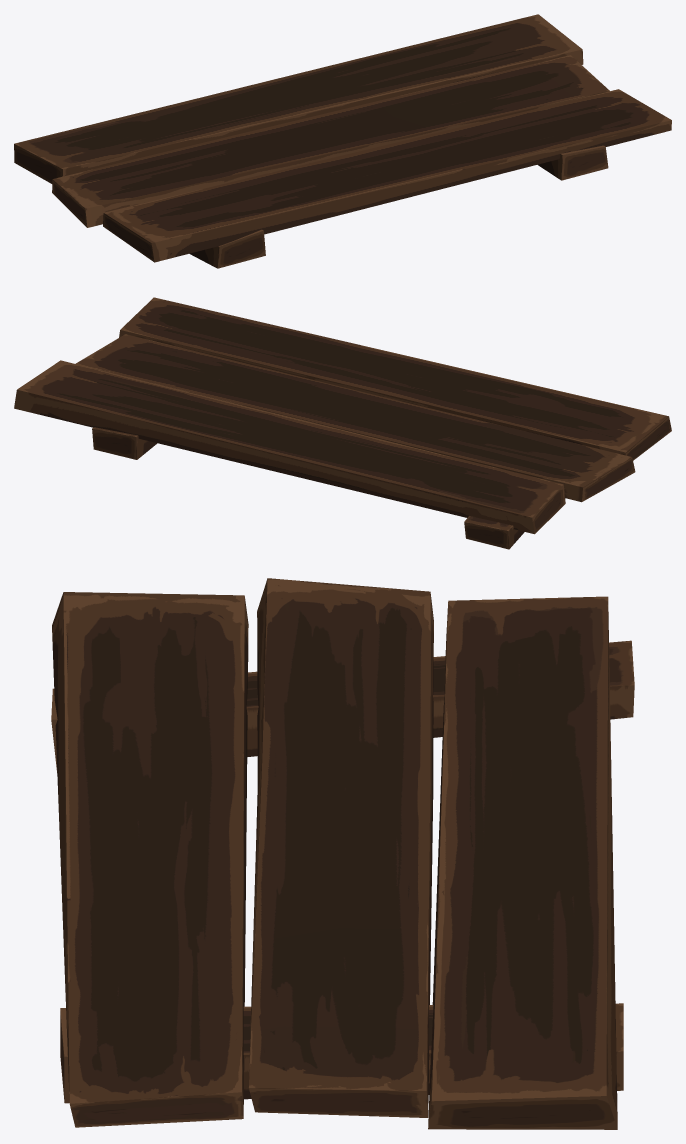
The model's file is SM_PROP_planks_dungeon_05.fbx.
The picture shows the model from 3 angles, top to bottom: view 1: azimuth 30°, elevation 25°; view 2: azimuth 150°, elevation 25°; view 3: azimuth 270°, elevation 25°; orthographic projection. The views are drawn at different scales.
Parts seen in each view (by area): view 1: SM_PROP_planks_dungeon_05; view 2: SM_PROP_planks_dungeon_05; view 3: SM_PROP_planks_dungeon_05.
Part boxes in pixels (x1,y1,x2,y2): SM_PROP_planks_dungeon_05: (14, 14, 671, 268); SM_PROP_planks_dungeon_05: (14, 297, 671, 549); SM_PROP_planks_dungeon_05: (51, 578, 634, 1129).
Size of the model in its own units: 213 by 15.26 by 101.
